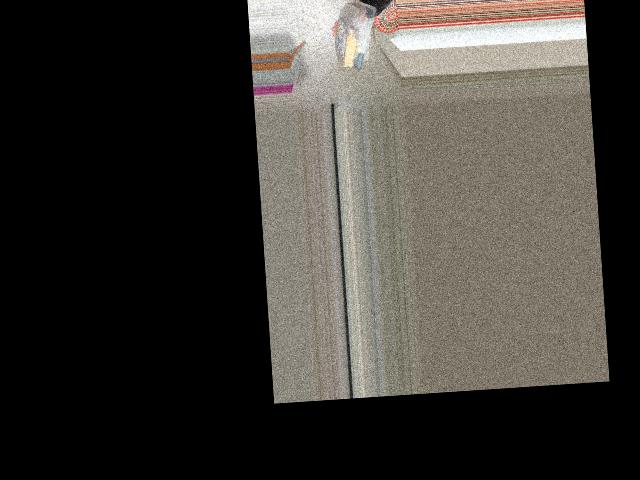cheese: (332, 0, 385, 73)
